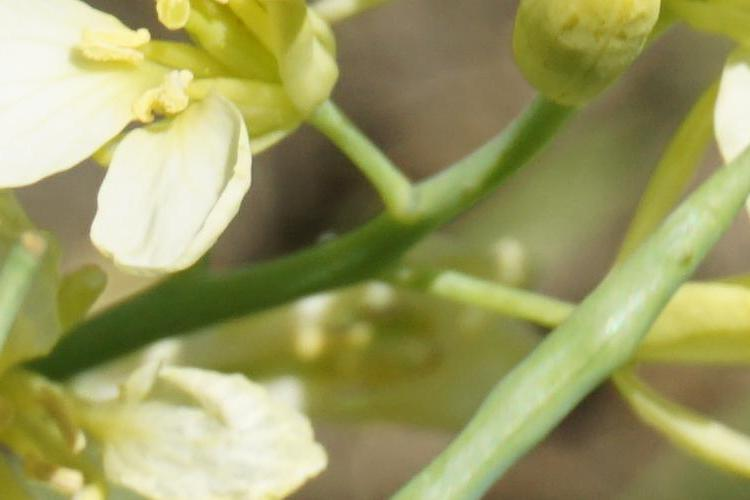bud: (508, 5, 655, 109)
white: (2, 14, 309, 247), (4, 267, 319, 489)
